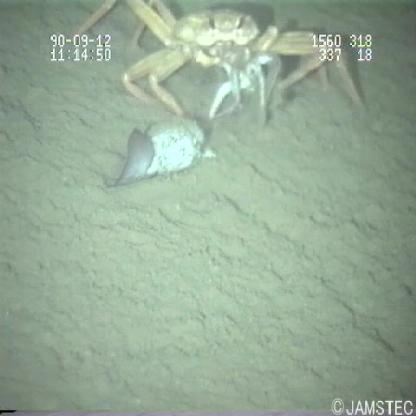Bio: (68, 1, 363, 194)
